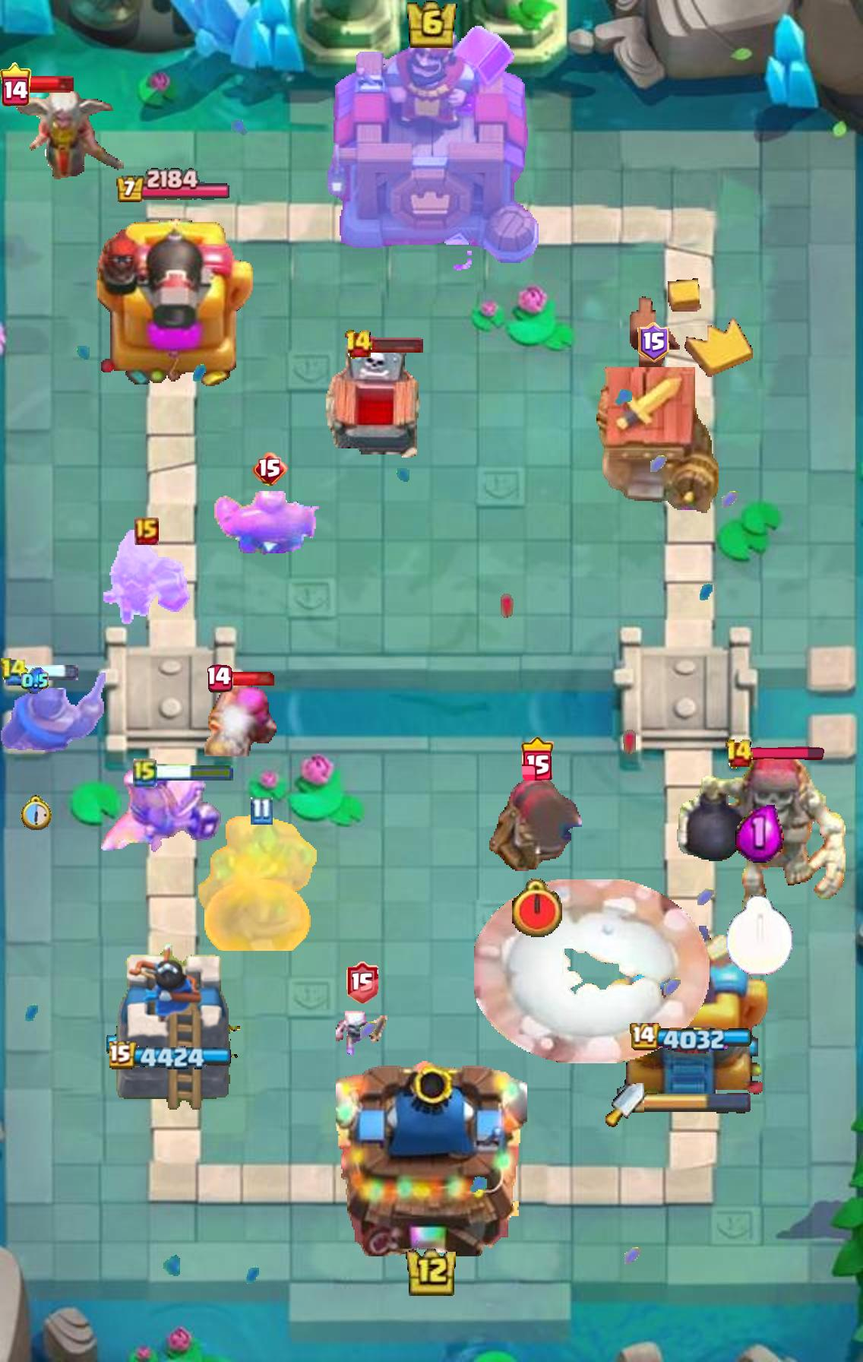bar: (750, 747, 824, 761), (369, 335, 424, 353), (20, 75, 74, 93), (229, 671, 278, 686)
bar-level: (522, 736, 554, 781), (346, 961, 378, 1003), (0, 62, 30, 106), (637, 322, 669, 362), (251, 452, 288, 486), (344, 329, 373, 360), (725, 739, 754, 769), (207, 664, 233, 693), (134, 518, 159, 545)
